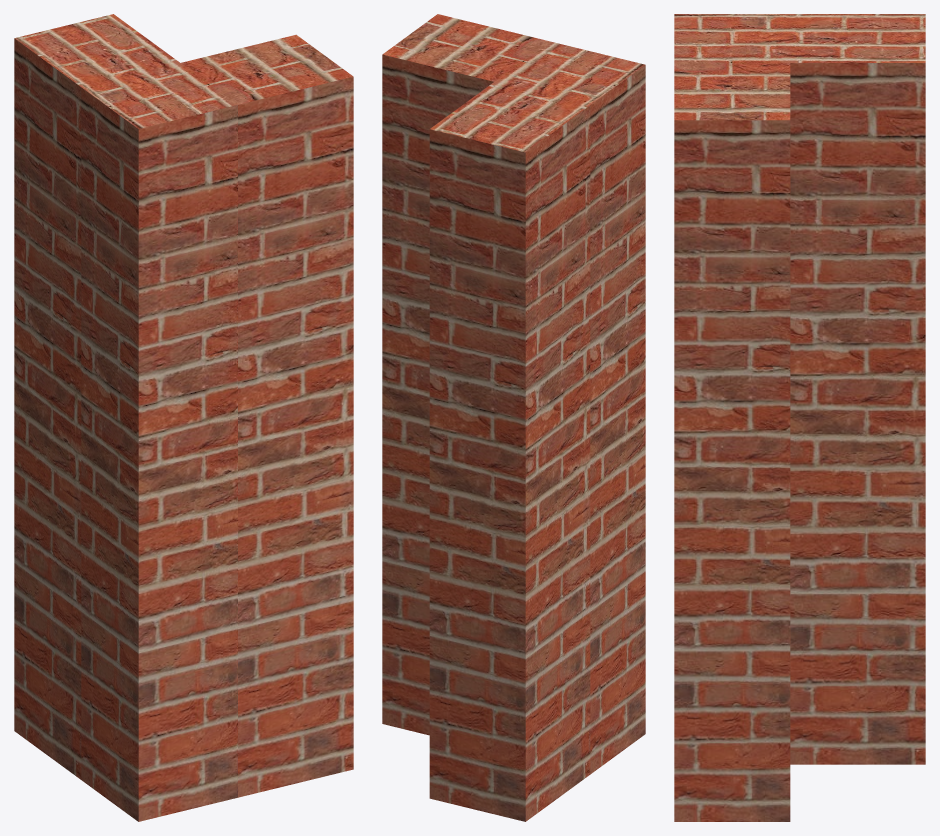
File: wallCorner.fbx
3 views of the same model, side by side, from view 1: azimuth 30°, elevation 25°; view 2: azimuth 150°, elevation 25°; view 3: azimuth 270°, elevation 25° (orthographic). The views are drawn at different scales.
Visible parts, largest first — view 1: Cube; view 2: Cube; view 3: Cube.
Part boxes in pixels (bbox=[...]): Cube: bbox=[14, 14, 353, 821]; Cube: bbox=[382, 14, 645, 821]; Cube: bbox=[674, 14, 925, 821].
Size of the model in its own units: 65 by 200 by 65.
